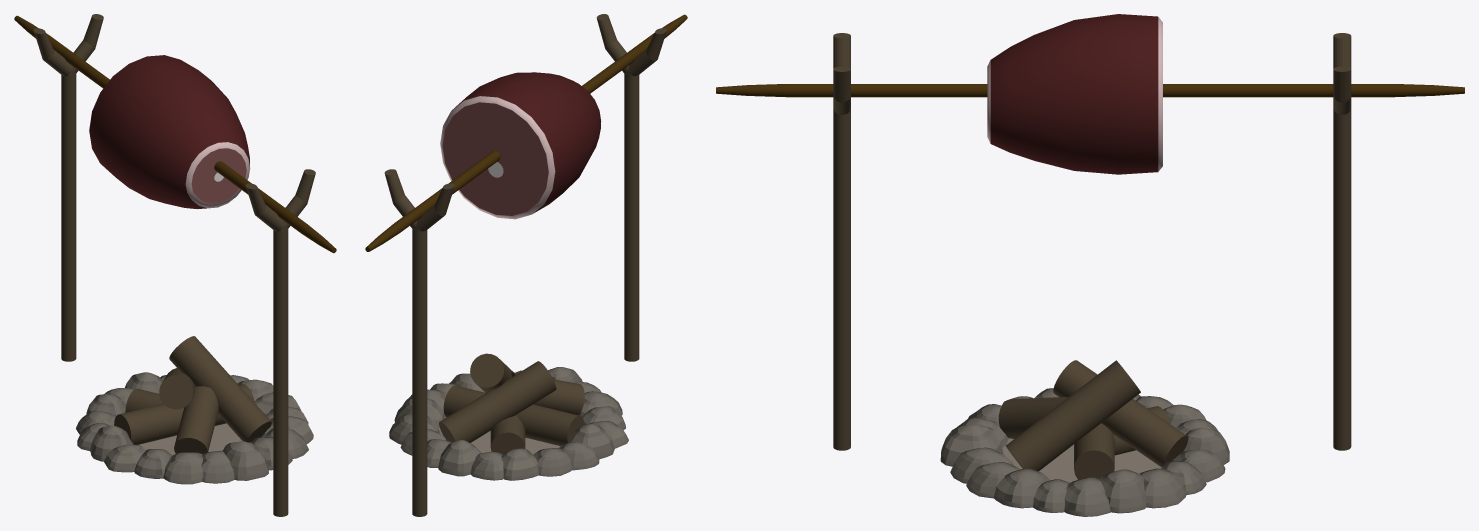
The model's file is CampFire.fbx.
3 renders of one model, left to right at view 1: azimuth 30°, elevation 25°; view 2: azimuth 150°, elevation 25°; view 3: azimuth 270°, elevation 25°, orthographic. The views are drawn at different scales.
Visible parts, largest first — view 1: pCube46; view 2: pCube46; view 3: pCube46.
Part boxes in pixels (<box>): pCube46: <box>14,14,336,516</box>; pCube46: <box>365,14,687,516</box>; pCube46: <box>716,14,1464,516</box>.
Size of the model in its own units: 80.64 by 136 by 215.
